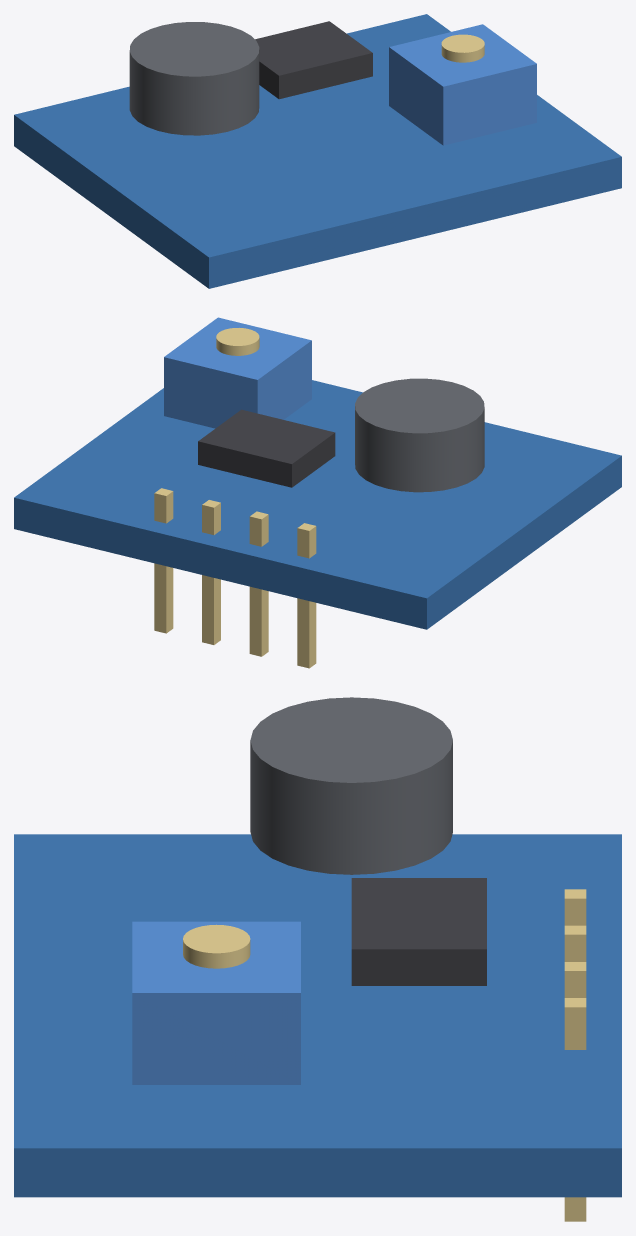
Rendered from photoresistor-module.glb.
3 views of the same model, one above another, from view 1: azimuth 30°, elevation 25°; view 2: azimuth 150°, elevation 25°; view 3: azimuth 270°, elevation 25° (orthographic). The views are drawn at different scales.
Visible parts, largest first — view 1: pcb, trimmer, ldr, comparator; view 2: pcb, ldr, trimmer, header, comparator; view 3: pcb, ldr, trimmer, comparator, header.
Part boxes in pixels (x1,y1,x2,y2): pcb: (14, 14, 621, 288); trimmer: (389, 24, 536, 145); ldr: (129, 22, 259, 135); comparator: (255, 21, 372, 99); pcb: (14, 380, 621, 629); ldr: (355, 378, 484, 492); trimmer: (164, 317, 311, 428); header: (154, 488, 316, 668); comparator: (198, 409, 335, 487); pcb: (14, 834, 621, 1197); ldr: (250, 697, 452, 874); trimmer: (132, 921, 300, 1084); comparator: (351, 878, 486, 985); header: (564, 889, 586, 1221).
Bounding box in the file's own units: 0.022 × 0.011 × 0.018.
